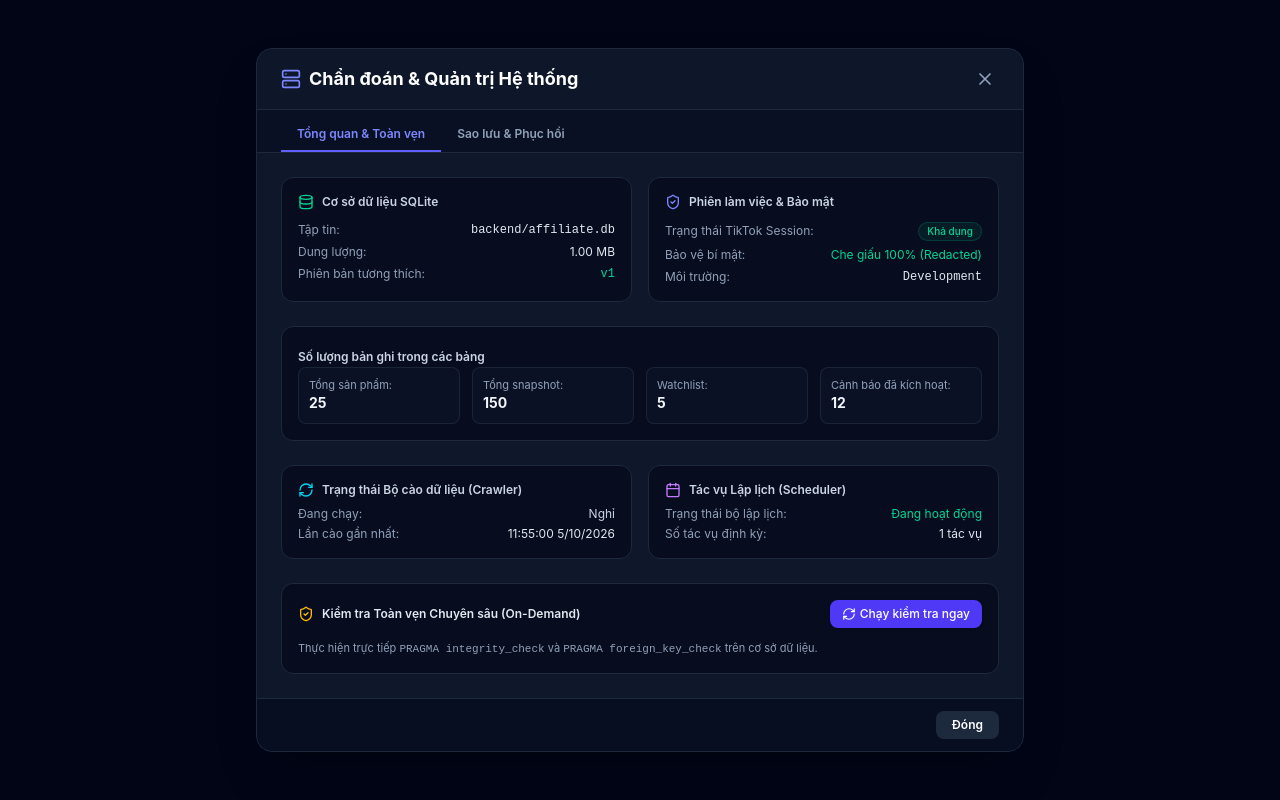
it: Phase 4 — Frontend Export & Diagnostics (P4-AC-27, P4-AC-28, P4-AC-32) › System Diagnostics Modal (P4-AC-25, P4-AC-26, P4-AC-28) › executes manual on-demand deep diagnostics check
Expected: the text "backend/affiliate.db" is shown, [471, 222, 615, 238]
Click the button "Chạy kiểm tra ngay" at [906, 614], box [830, 600, 982, 628]
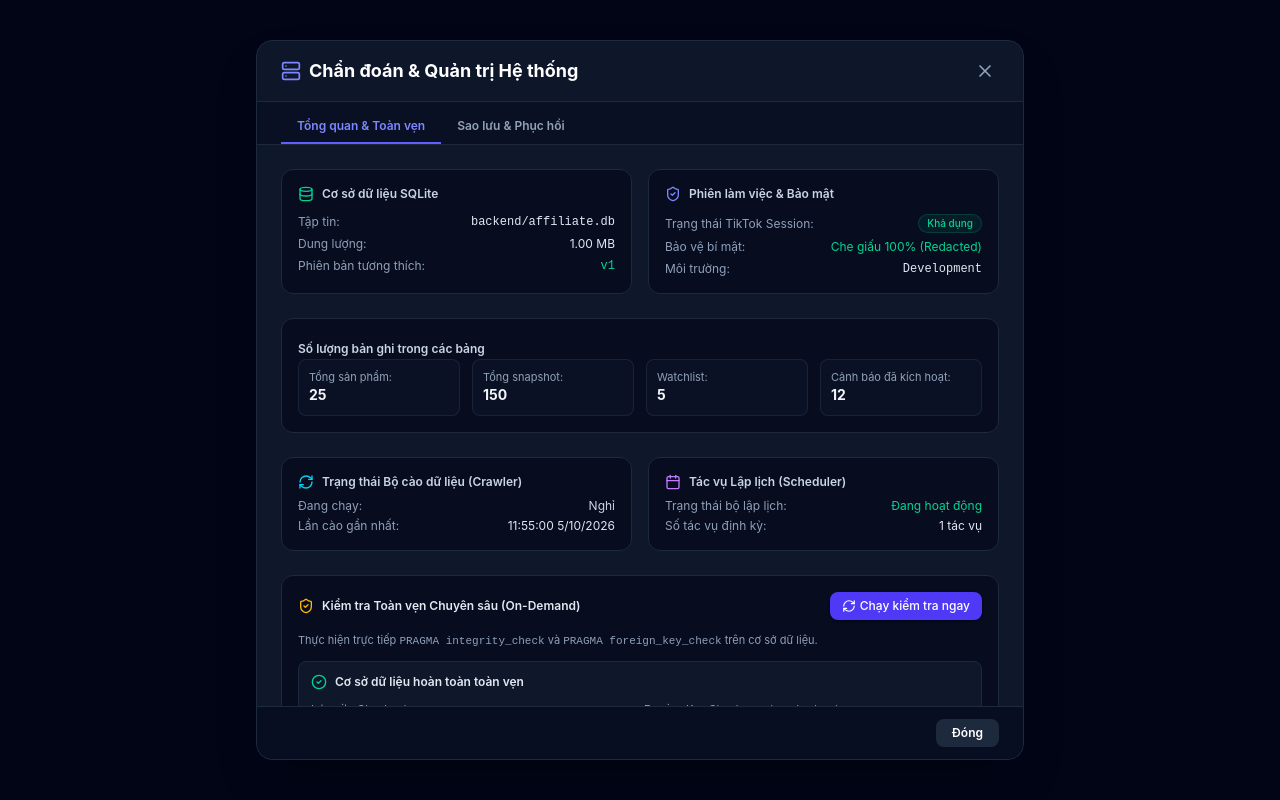
Now the text "Cơ sở dữ liệu hoàn toàn toàn vẹn" is shown, box [335, 674, 524, 690]
